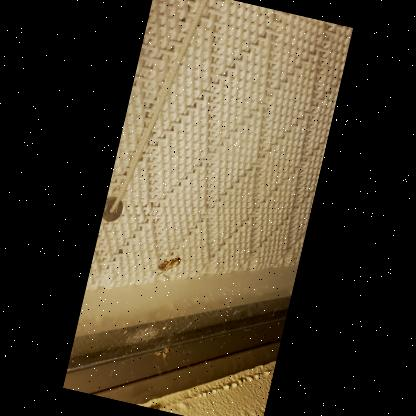Fall Armyworm Moth: (154, 249, 186, 281)
